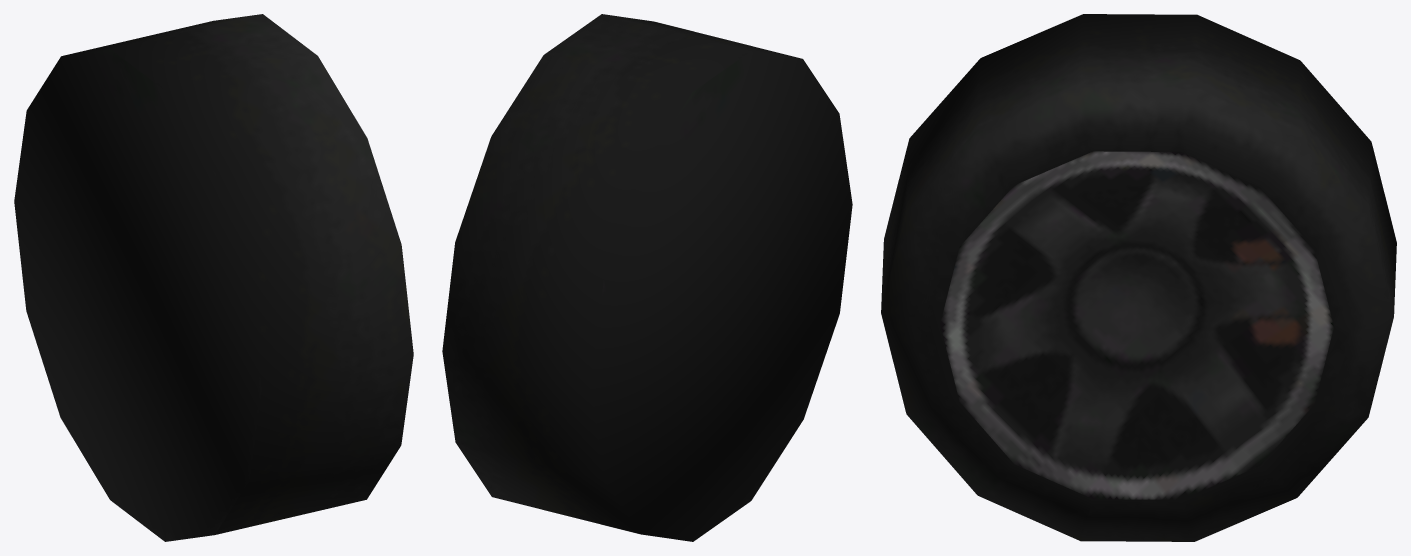
File: DX Mark 10_RuedaDer.obj
3 renders of one model, left to right at view 1: azimuth 30°, elevation 25°; view 2: azimuth 150°, elevation 25°; view 3: azimuth 270°, elevation 25°, orthographic.
Visible parts, largest first — view 1: RuedaDer; view 2: RuedaDer; view 3: RuedaDer.
Boxes of the visible parts, x1,y1,x2,y2 form: RuedaDer: [14, 14, 413, 541]; RuedaDer: [442, 14, 852, 541]; RuedaDer: [881, 14, 1396, 541].
Size of the model in its own units: 0.6126 by 1.48 by 1.52.
